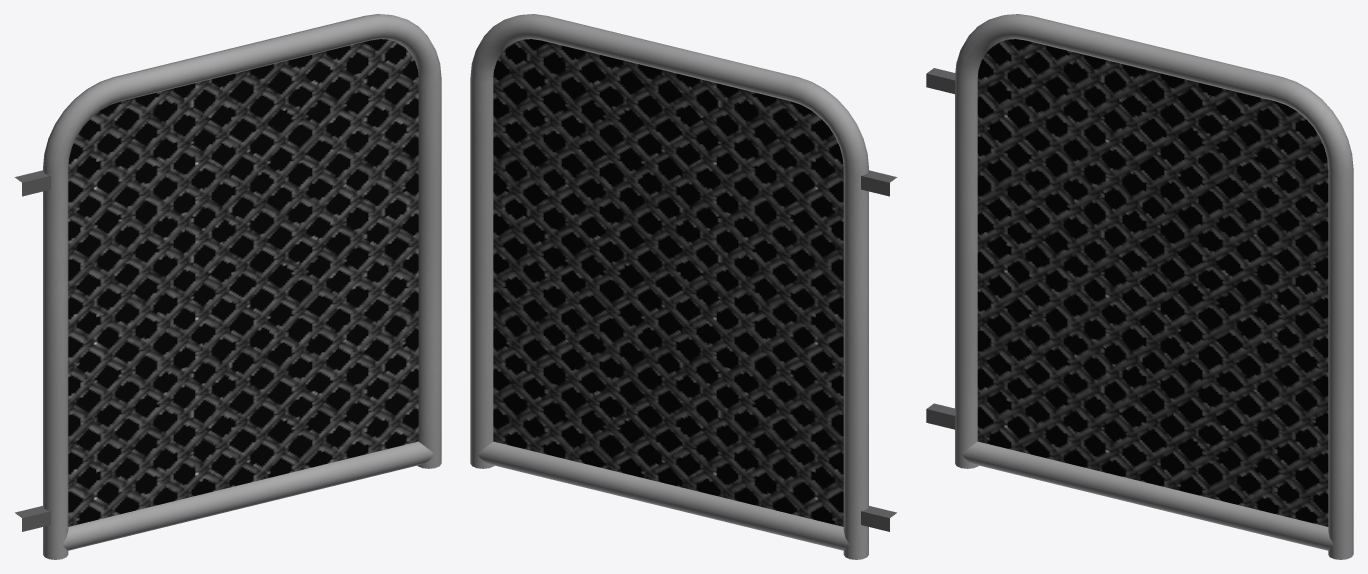
File: fence-chainlink-gate-1m-noPost-cbj_LOD00.gltf
The picture shows the model from 3 angles, left to right: view 1: azimuth 30°, elevation 25°; view 2: azimuth 150°, elevation 25°; view 3: azimuth 330°, elevation 25°; orthographic projection.
Parts seen in each view (by area): view 1: post.001; view 2: post.001; view 3: post.001.
Boxes of the visible parts, x1,y1,x2,y2 form: post.001: (14, 14, 441, 559); post.001: (470, 14, 897, 559); post.001: (926, 14, 1353, 559).
Size of the model in its own units: 0.96 by 1 by 0.05.
